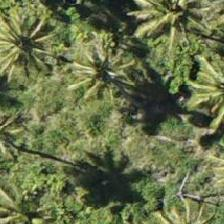coconut_tree: (51, 14, 141, 104), (0, 0, 68, 87), (162, 39, 223, 129), (114, 0, 204, 49), (0, 158, 64, 223)
